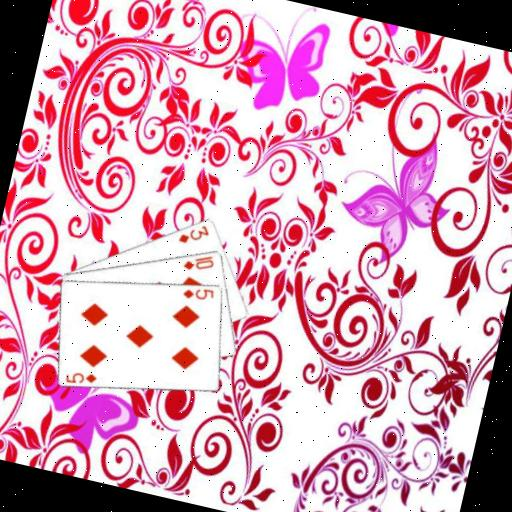10D: (179, 247, 217, 277)
3D: (174, 217, 213, 250)
5D: (61, 365, 100, 391), (179, 280, 216, 306)
